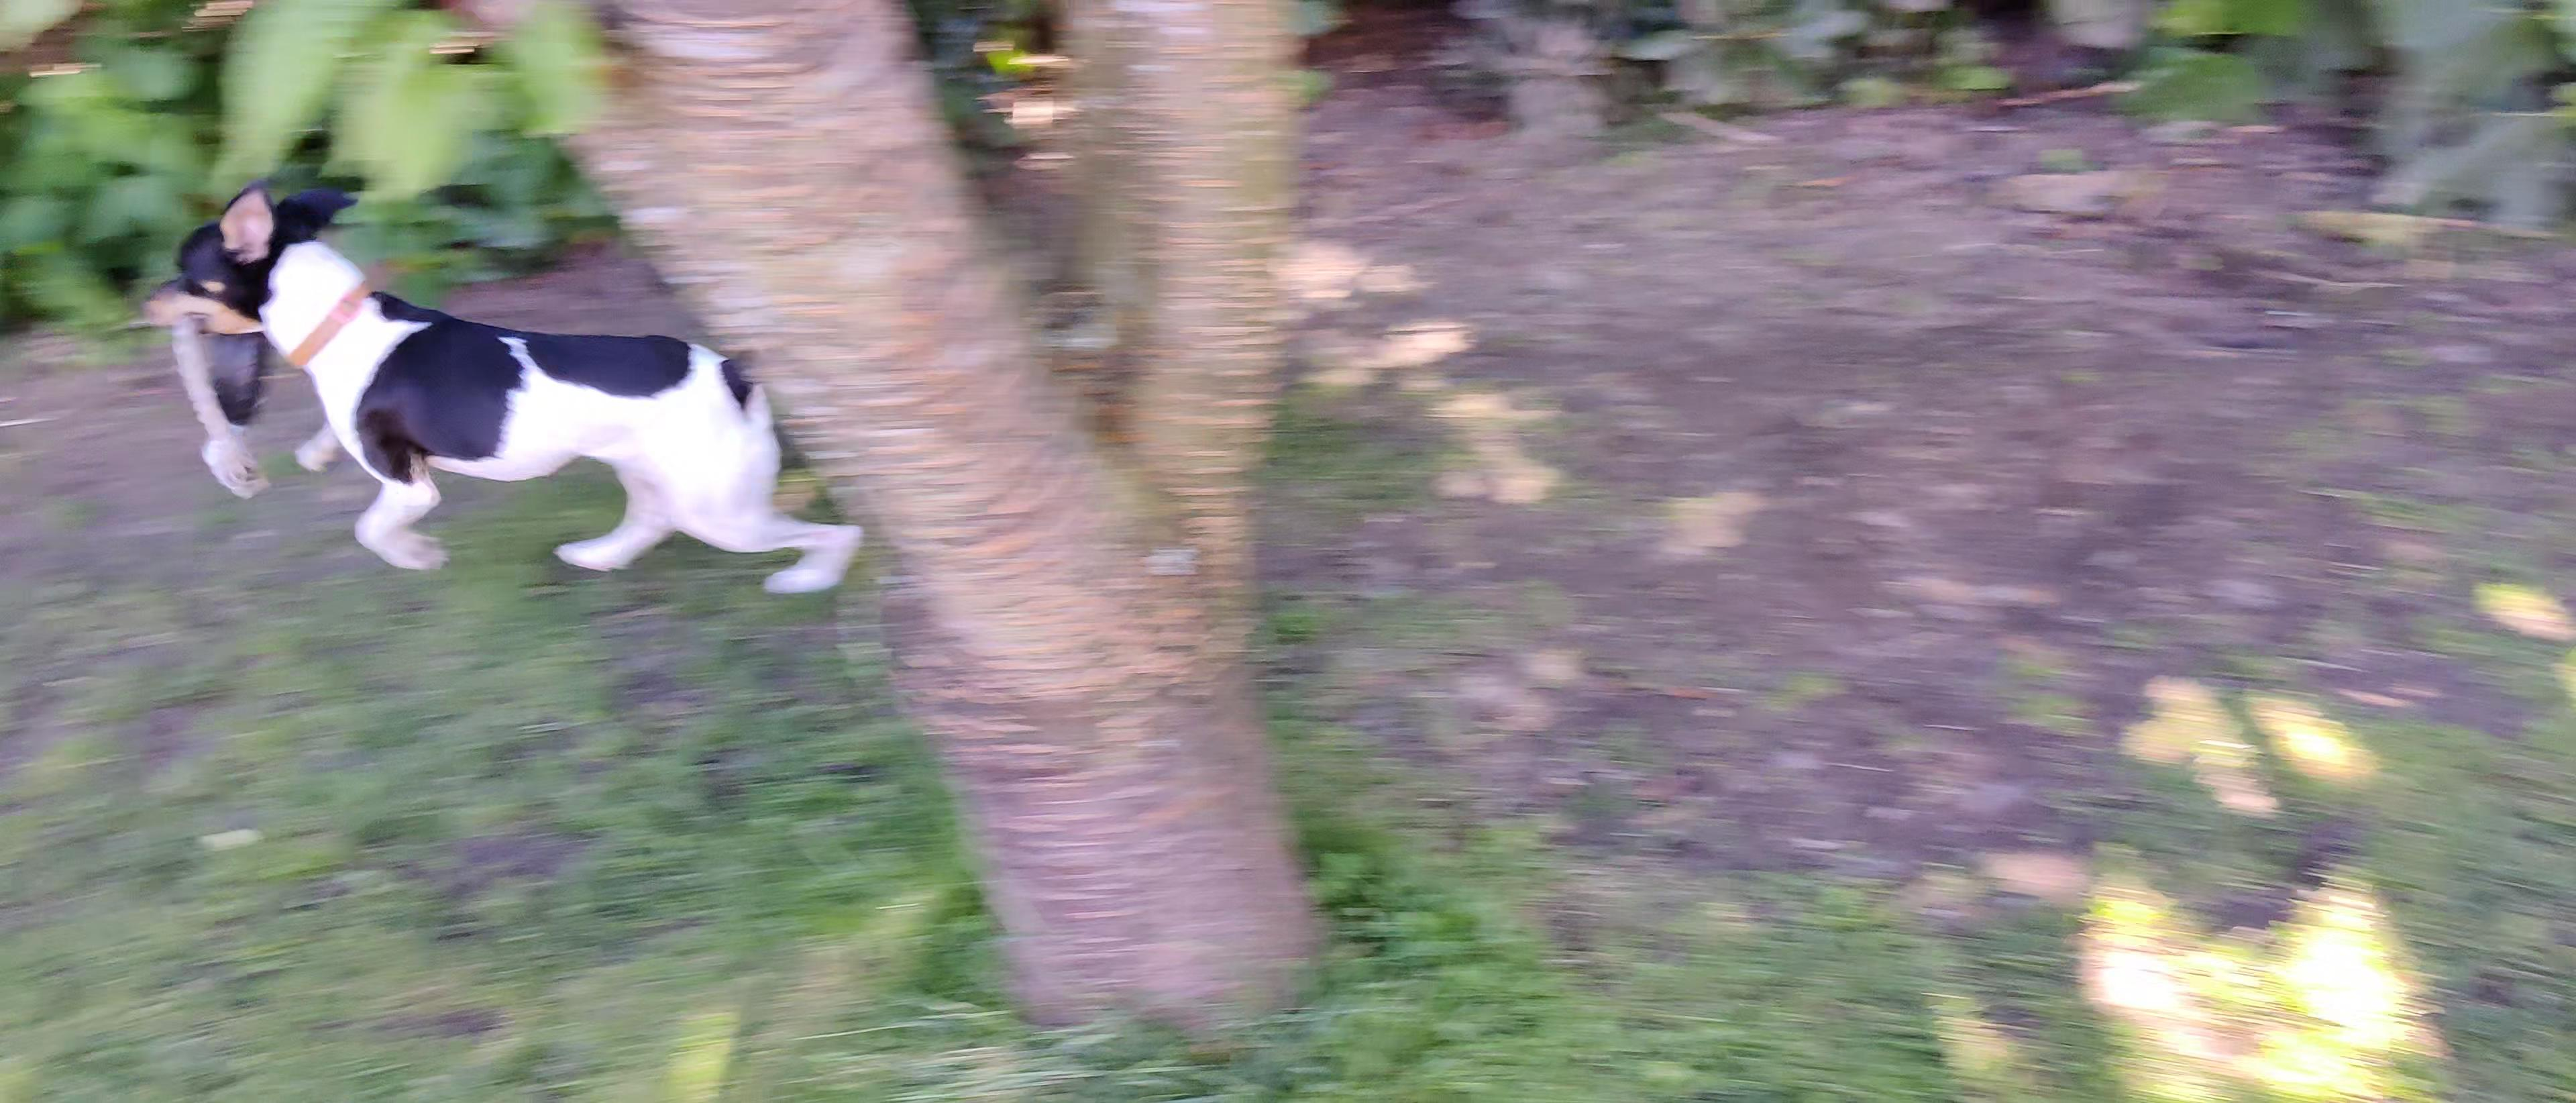Dog: (131, 164, 871, 595)
